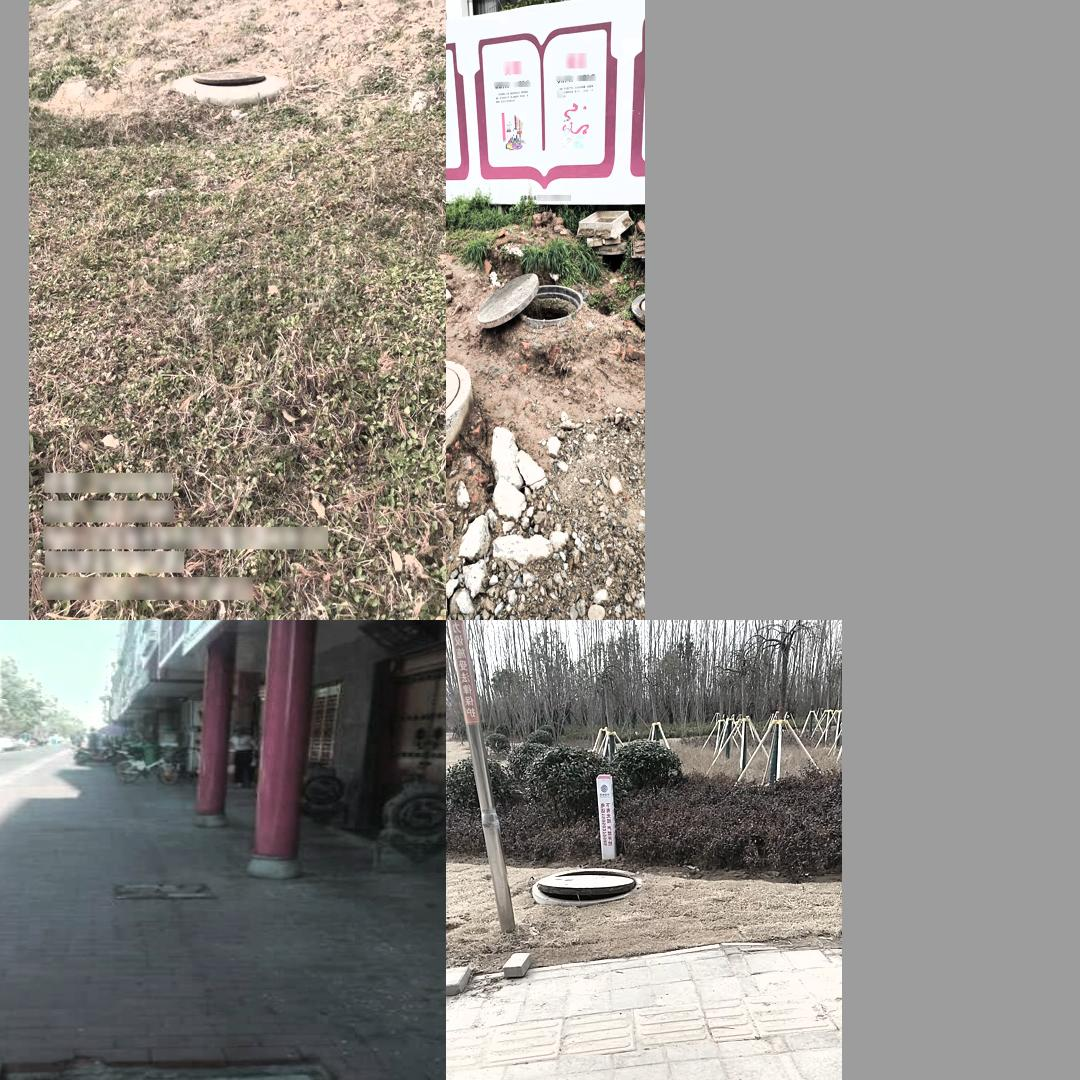uncovered: (0, 1054, 369, 1080), (472, 265, 592, 331), (531, 863, 642, 909), (191, 72, 265, 88)
